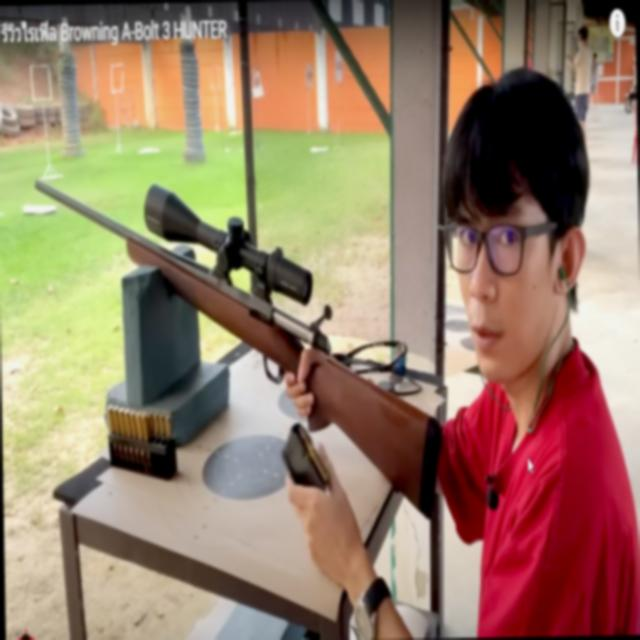rifle: (28, 149, 452, 555)
